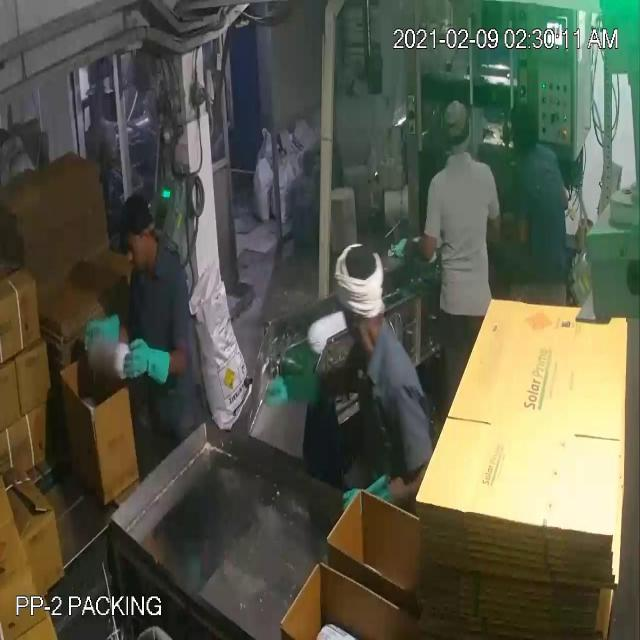Gloves: (48, 44, 291, 386)
